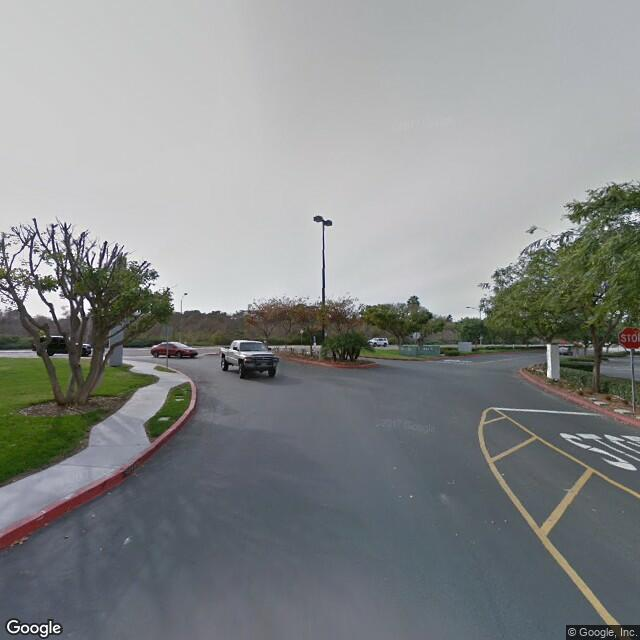litter: (14, 537, 28, 548)
